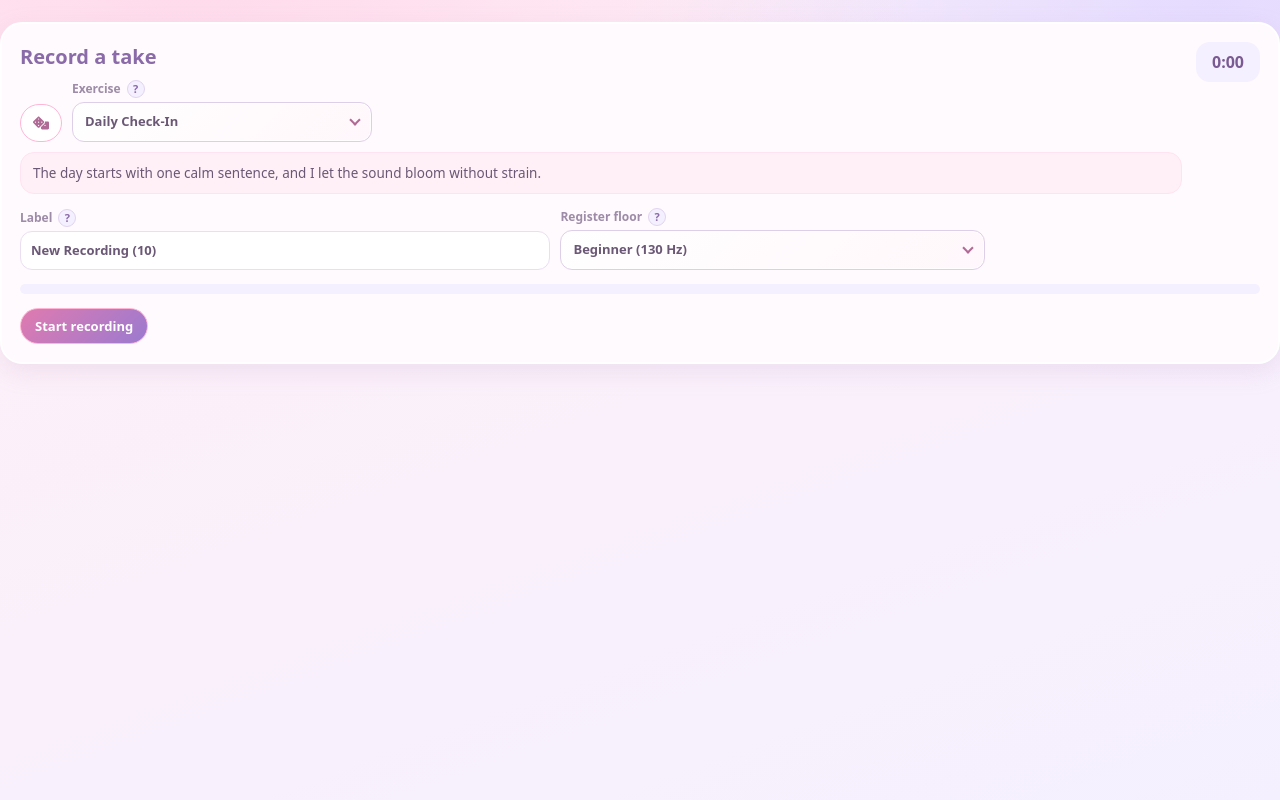
Test: RecordingPanel › records, reaches ready state, starts analysis, and supports cancellation
Click the button "Start recording".
click(84, 326)  # box [20, 308, 148, 344]
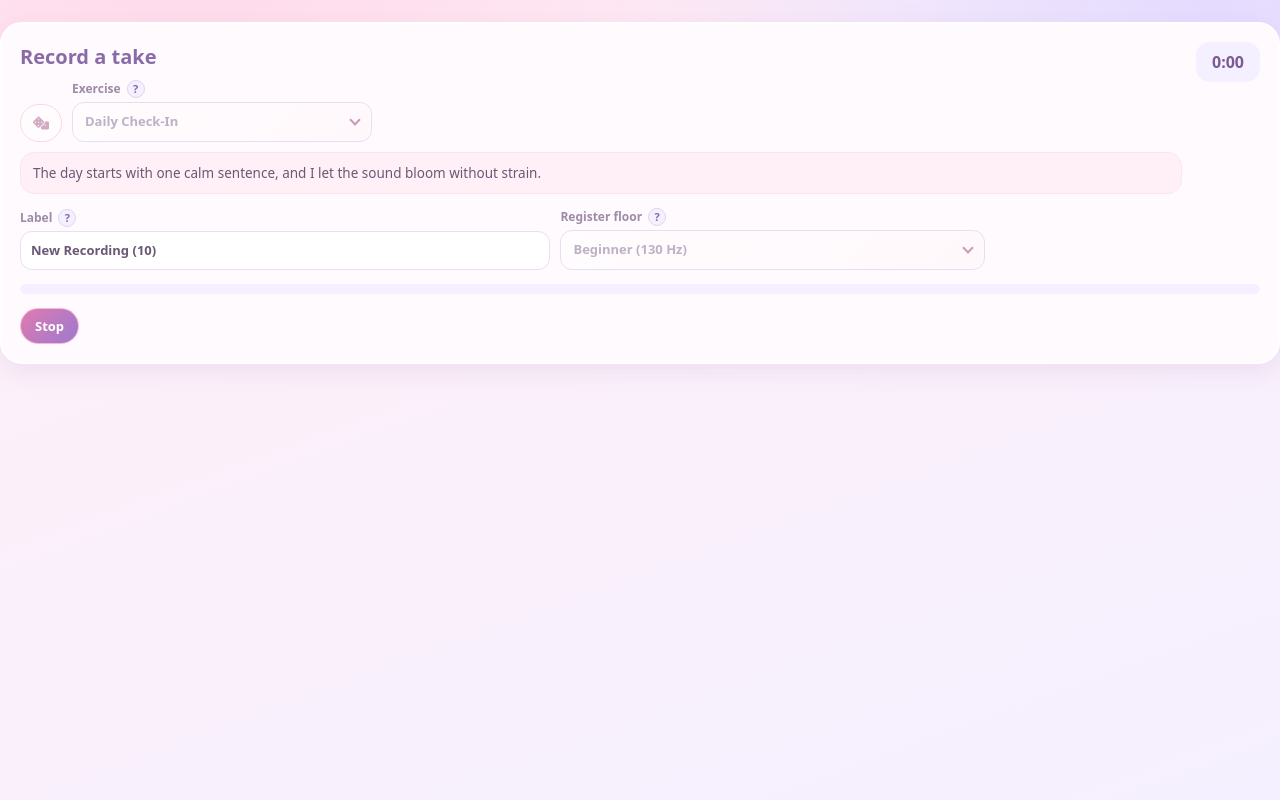
Check: the button "Stop" is shown
Click the button "Stop".
click(50, 326)  # box [20, 308, 79, 344]
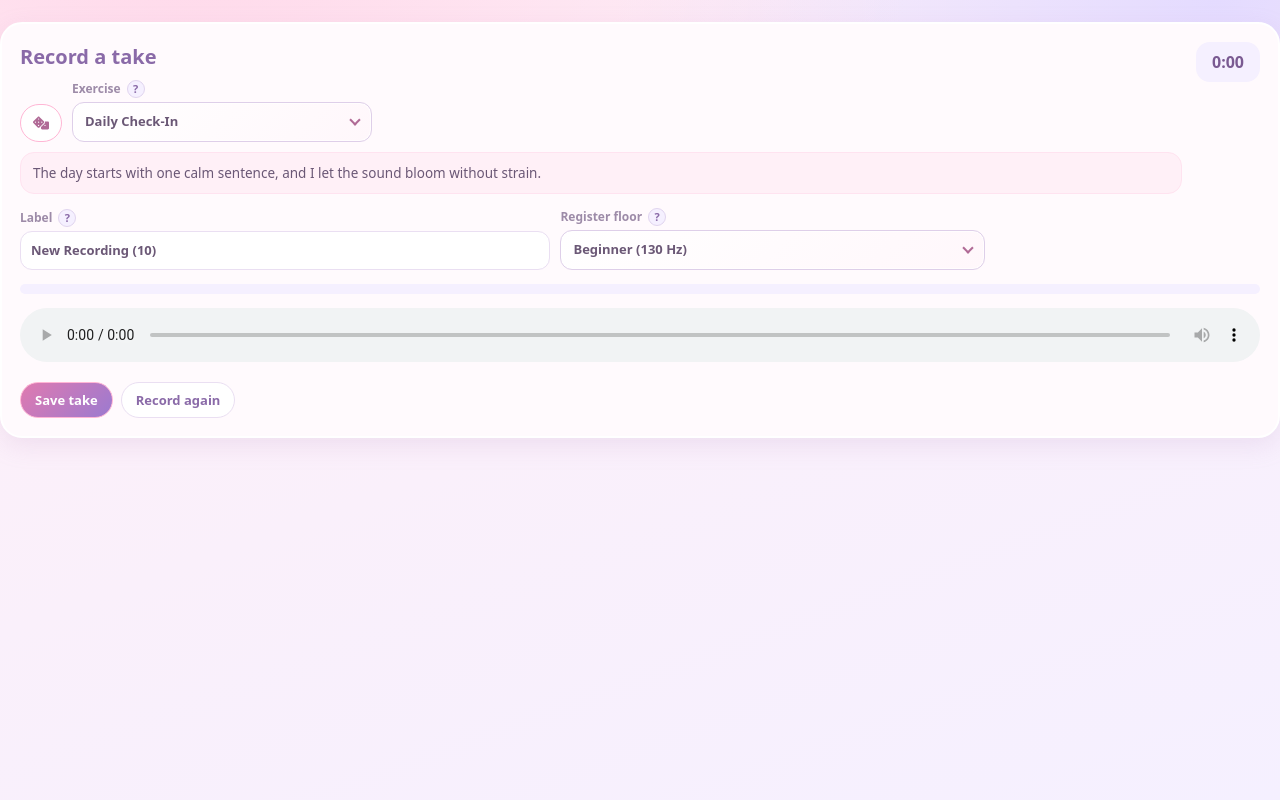
Check: the button "Save take" is shown
Click the button "Save take".
click(66, 400)  # box [20, 382, 113, 418]
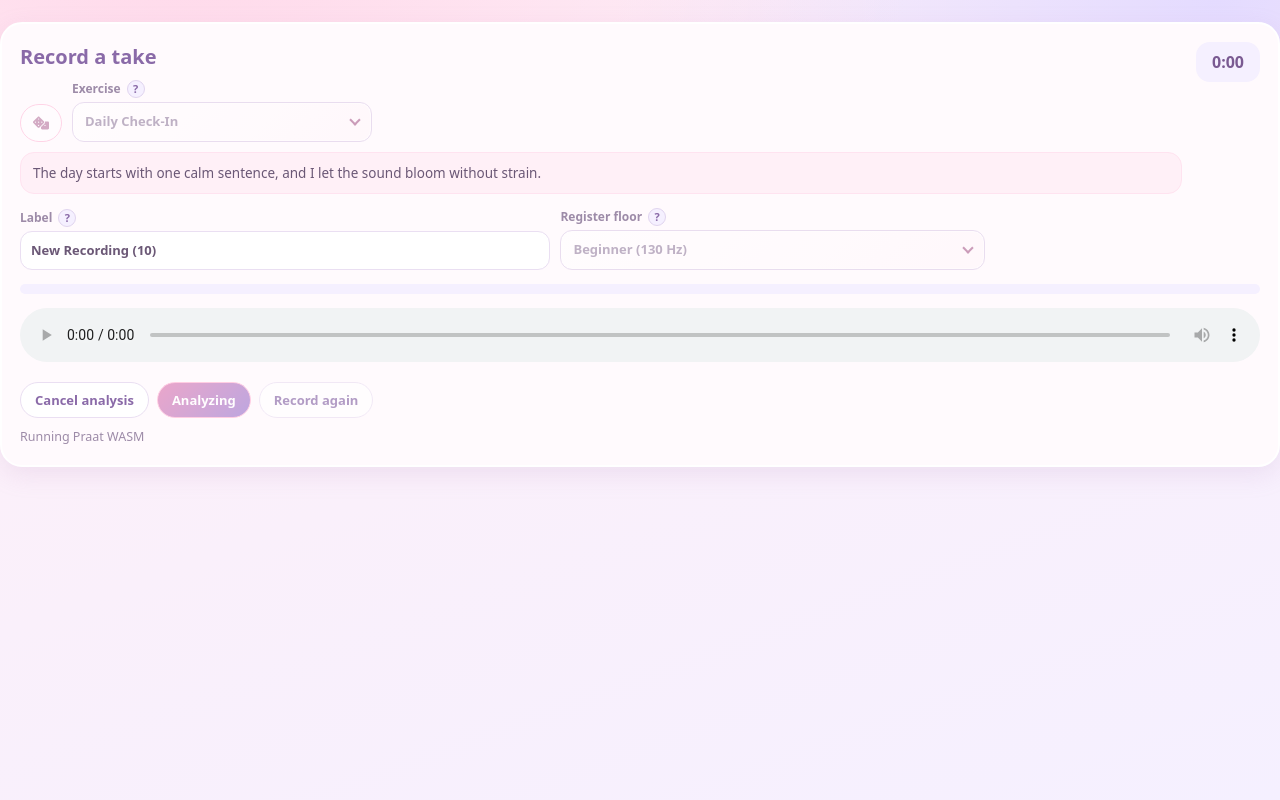
Check: the button "Cancel analysis" is shown
Click the button "Cancel analysis".
click(84, 400)  # box [20, 382, 149, 418]
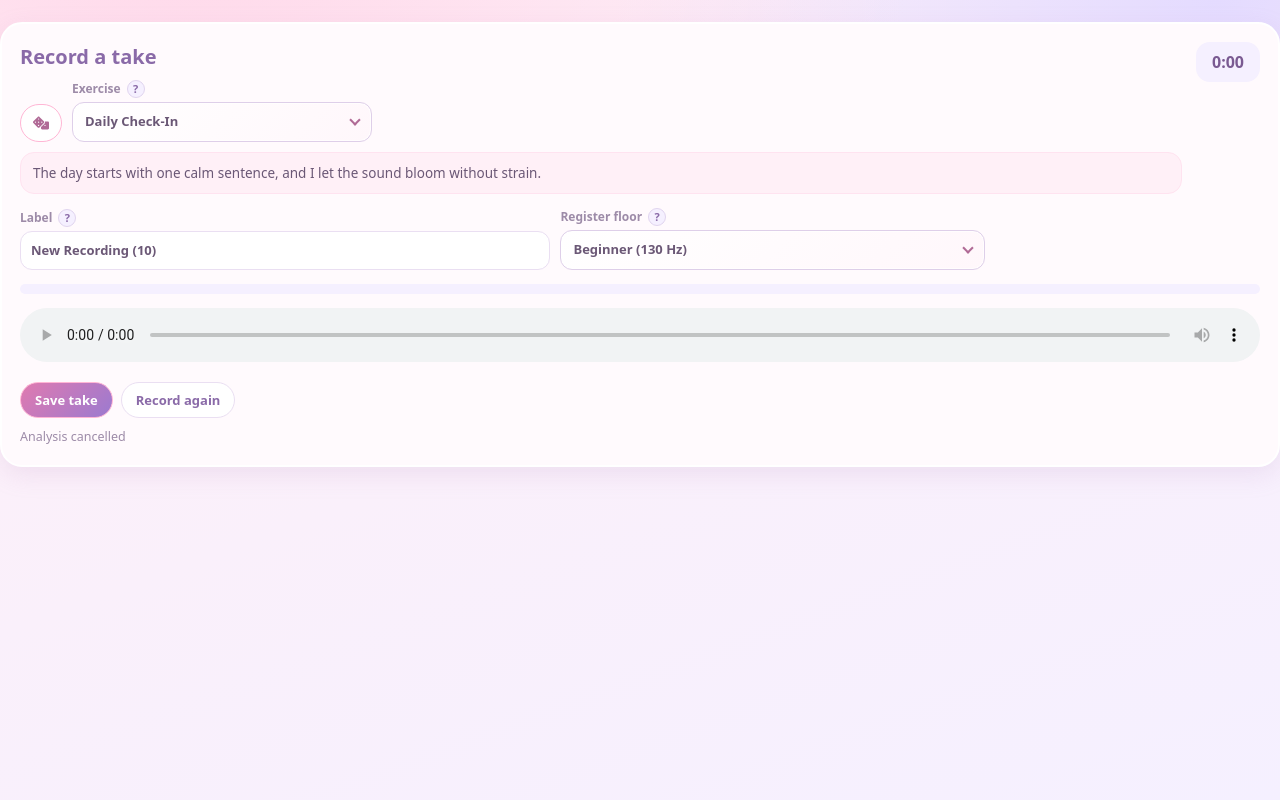
Check: the text "Analysis cancelled" is shown, box [20, 428, 126, 445]
